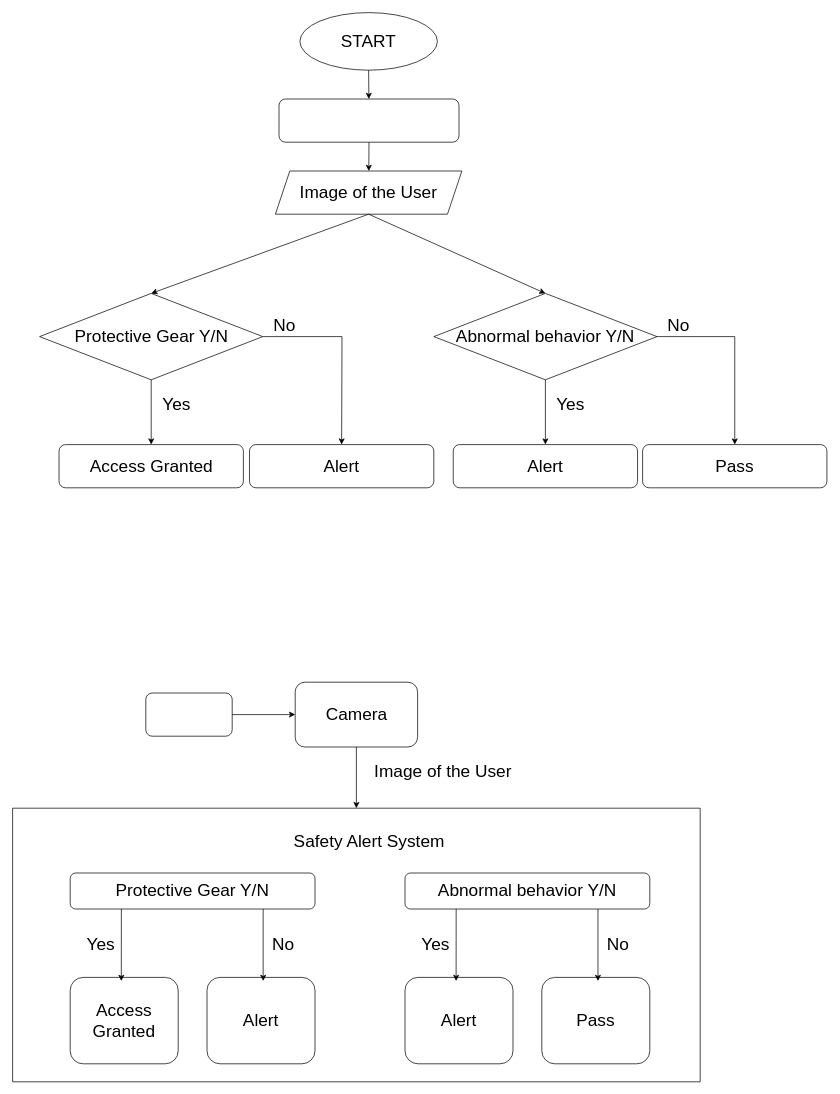
Image size: 840x1094. Some labels were removed from this diagram. The shapes that lost their labels are listed below. From the top down, each one's centre as x and y in pixels, then its label:
pixel 368 120: Camera Analysis
pixel 188 714: User
